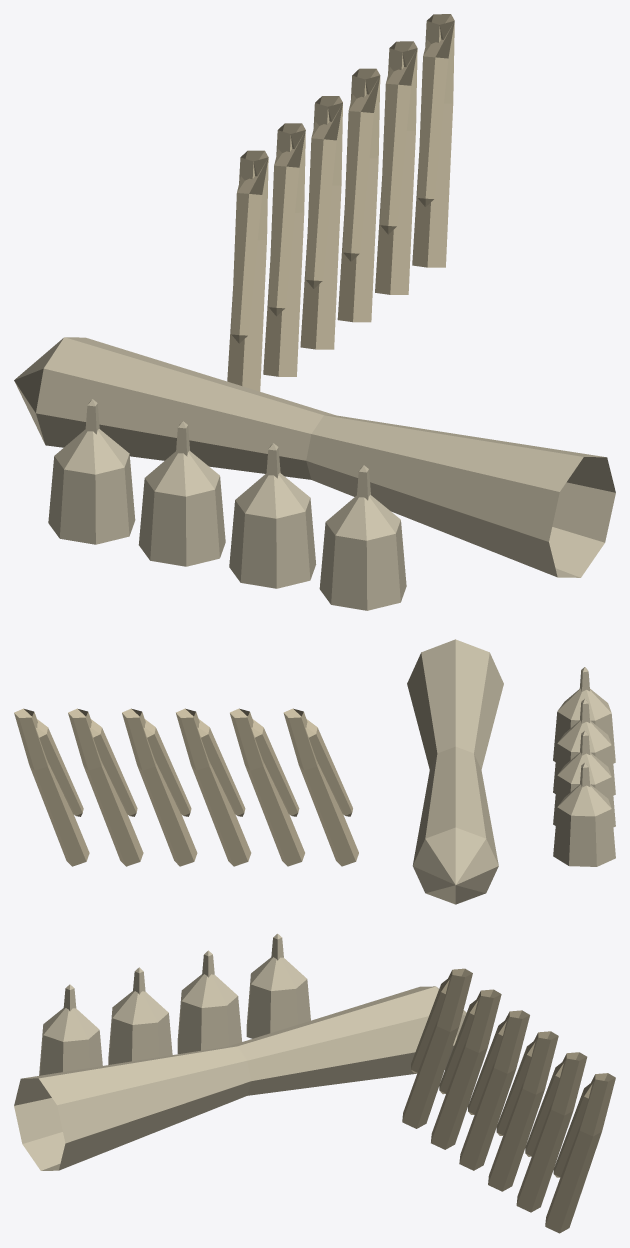
The model's file is bones_2.glb.
3 renders of one model, top to bottom at view 1: azimuth 30°, elevation 25°; view 2: azimuth 150°, elevation 25°; view 3: azimuth 270°, elevation 25°, orthographic. The views are drawn at different scales.
Visible parts, largest first — view 1: bones_2; view 2: bones_2; view 3: bones_2.
Boxes of the visible parts, <box> form: bones_2: <box>14,14,615,610</box>; bones_2: <box>14,639,615,904</box>; bones_2: <box>14,933,615,1233</box>.
Size of the model in its own units: 0.4739 by 0.1736 by 0.527.
